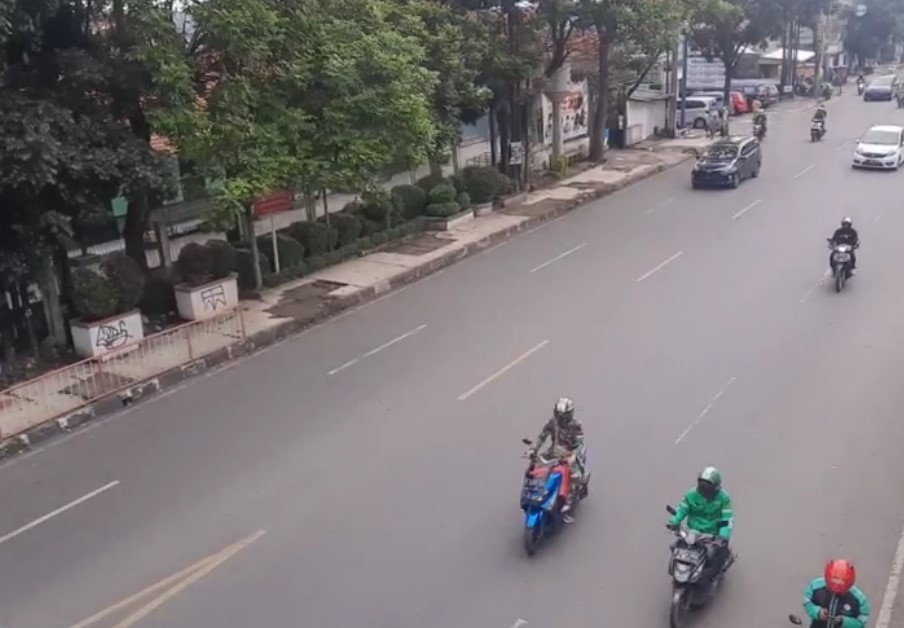motor: (511, 391, 600, 553), (660, 465, 742, 627), (823, 213, 865, 302)
